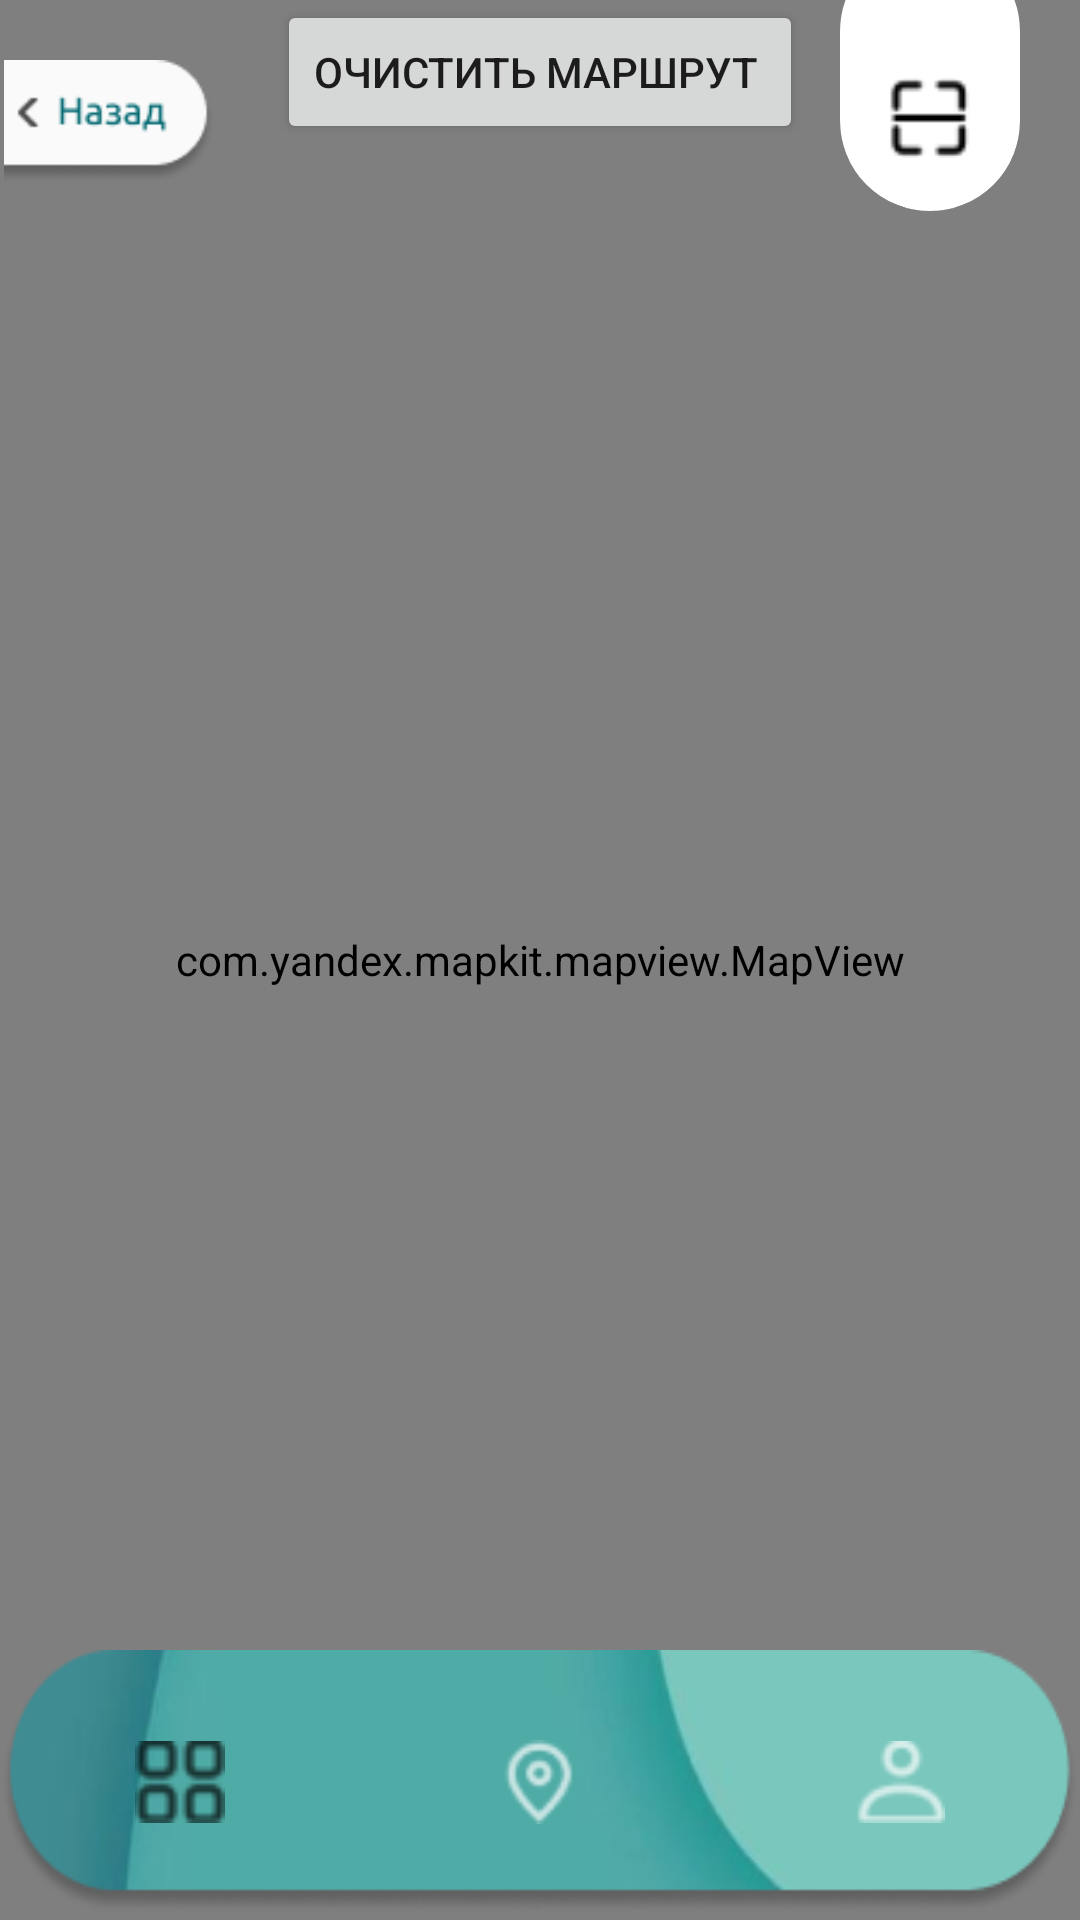

Screen size 1080x1920. Icon name, then its center in pixels as point (x, y):
scan: point (929, 118)
